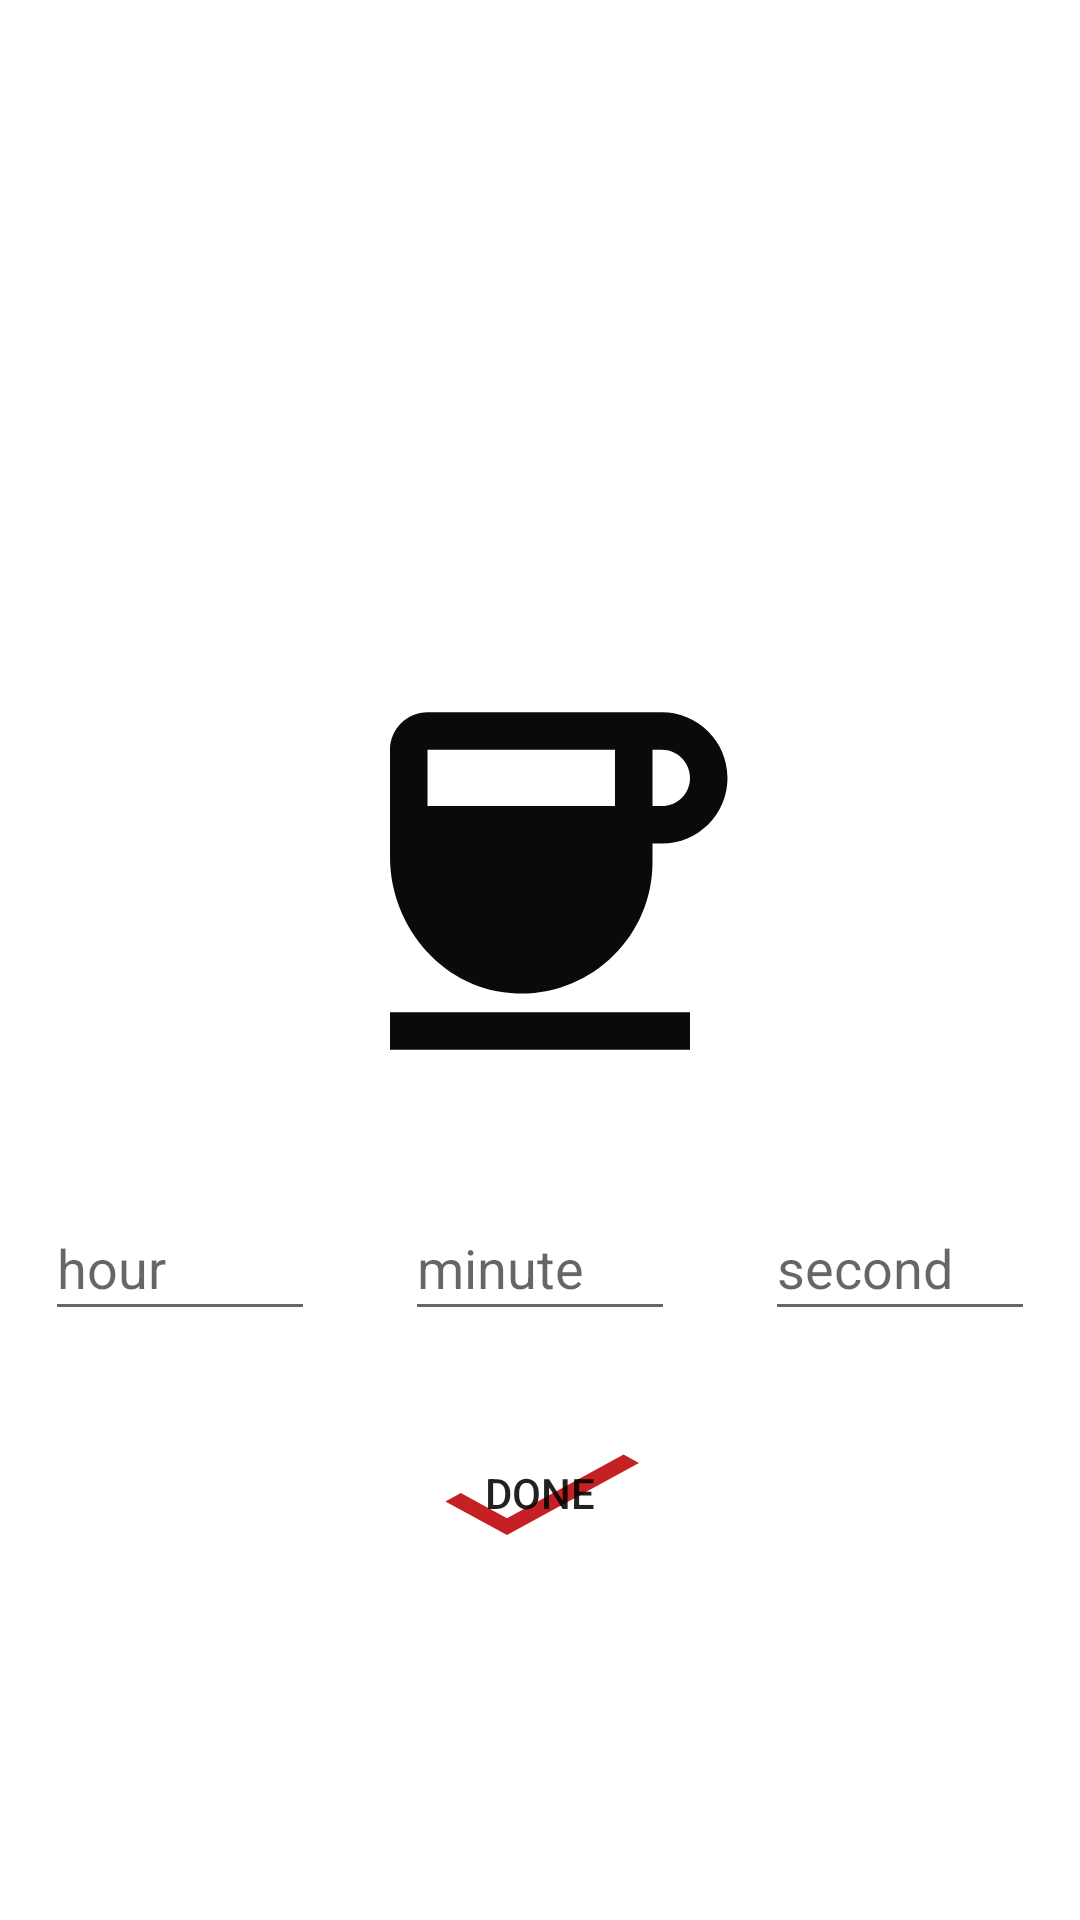

Named icons in this screenshot (1080 x 1920) and their centers, (x,y):
coffee: (559,881)
